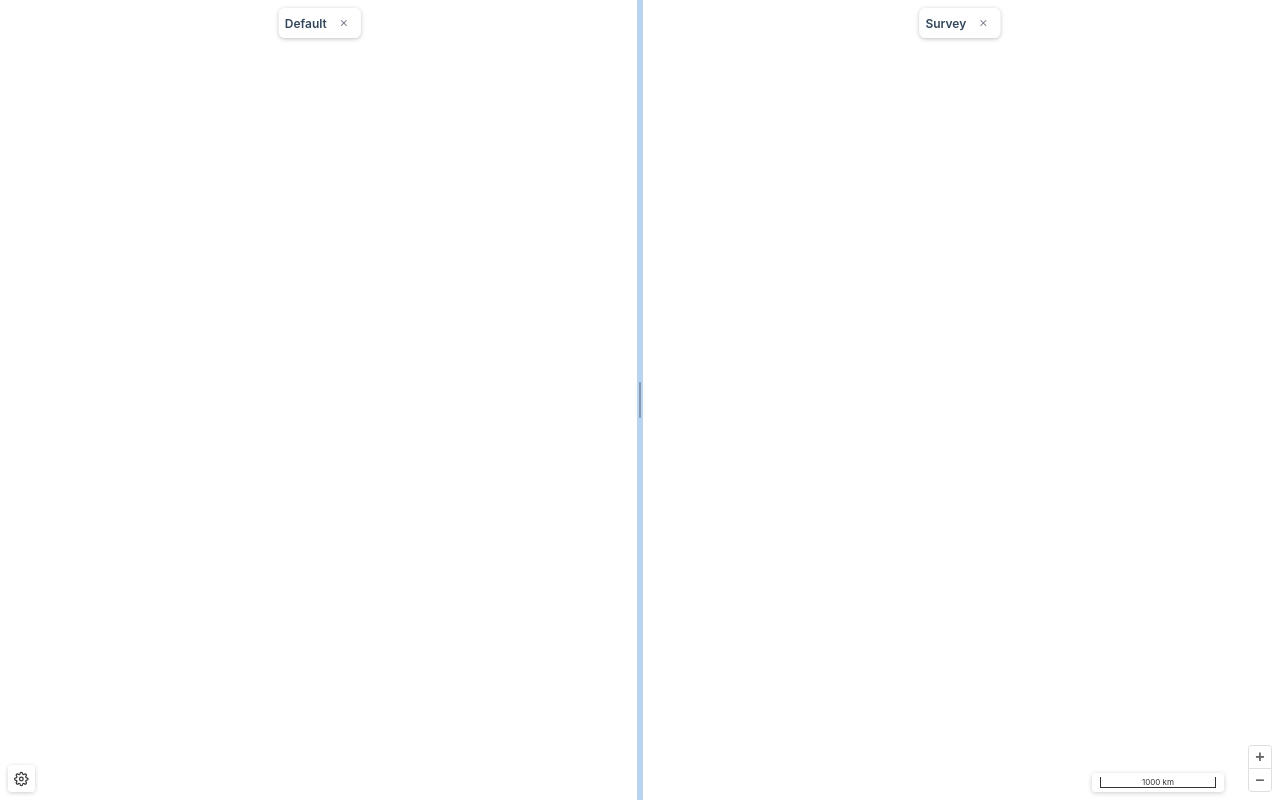
Test case: split base settings restore from the URL
Click the button named "Split view settings" at (21, 779), box top-left (8, 765), bottom-right (35, 792)
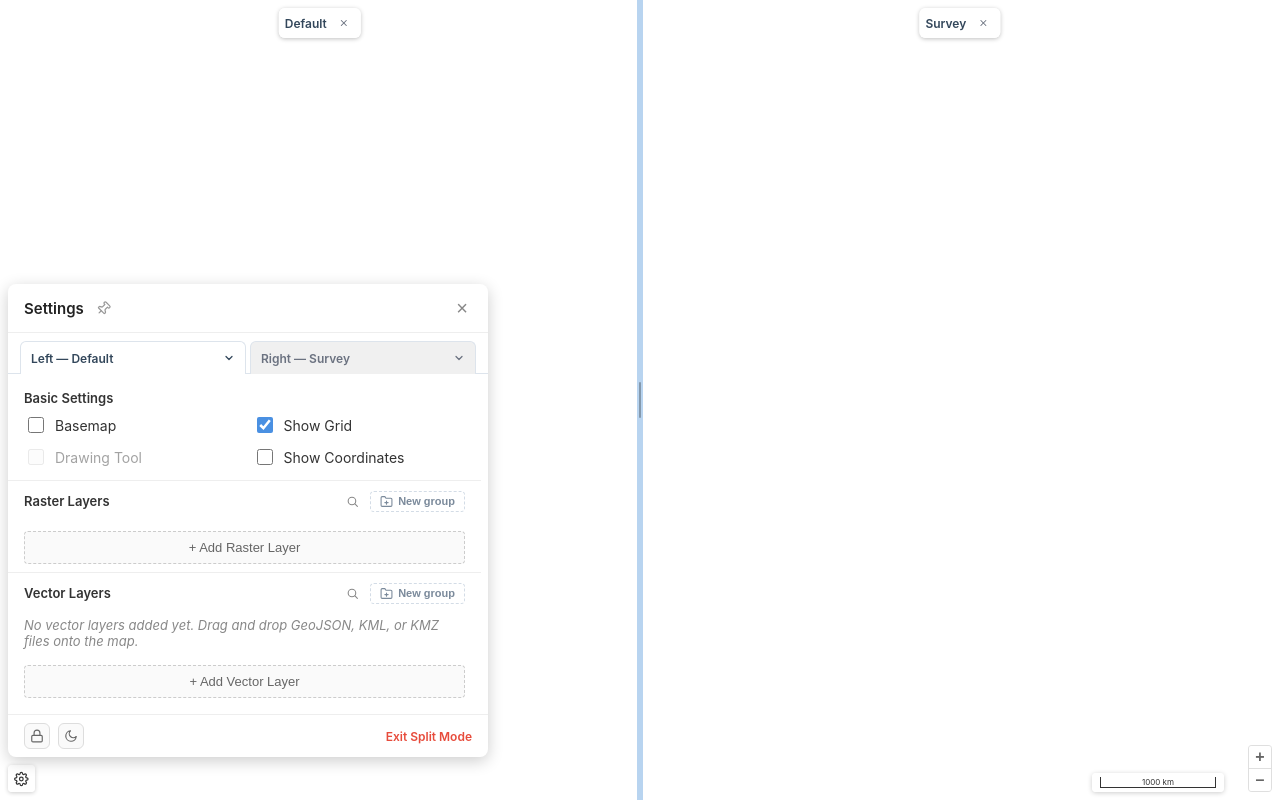
Expected: the checkbox with id "basemap-toggle" is not checked, top-left (28, 417), bottom-right (44, 433)
Expected: the checkbox with id "grid-toggle" is checked, top-left (256, 417), bottom-right (272, 433)
Expected: the checkbox with id "coordinates-toggle" is not checked, top-left (256, 449), bottom-right (272, 465)
